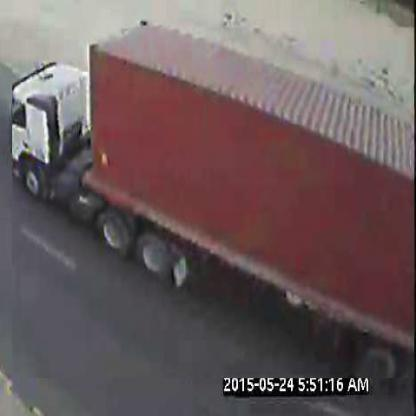container: (13, 29, 416, 381)
